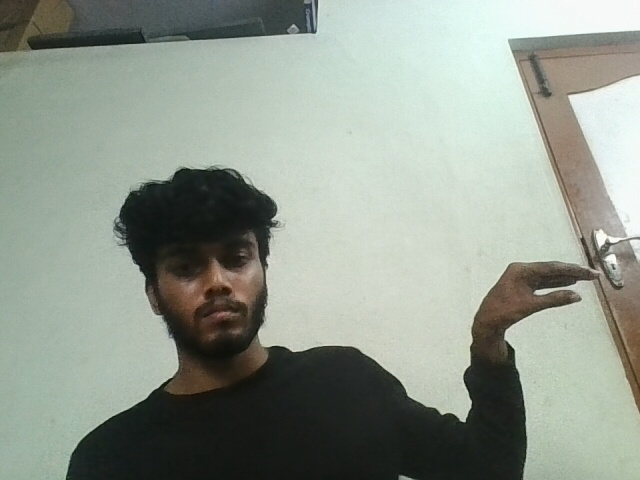no: (456, 255, 615, 348)
